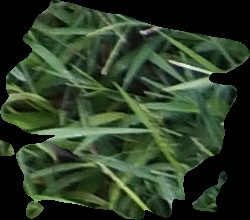grass: (1, 1, 248, 219)
